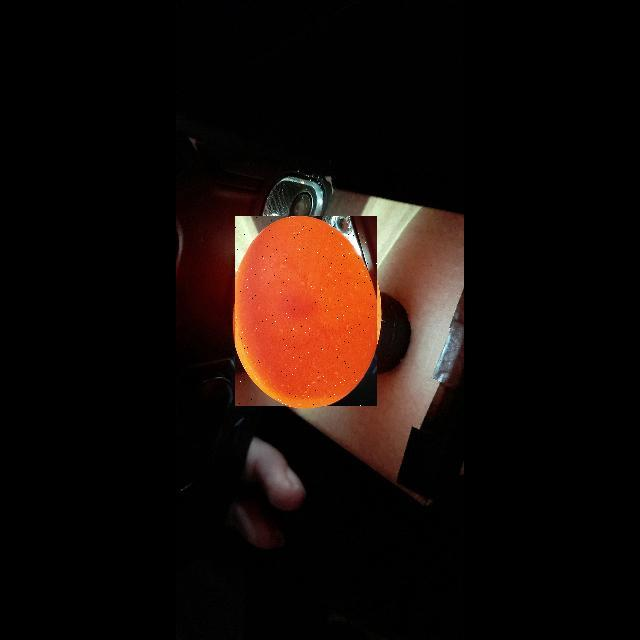Fertile: (235, 216, 377, 406)
